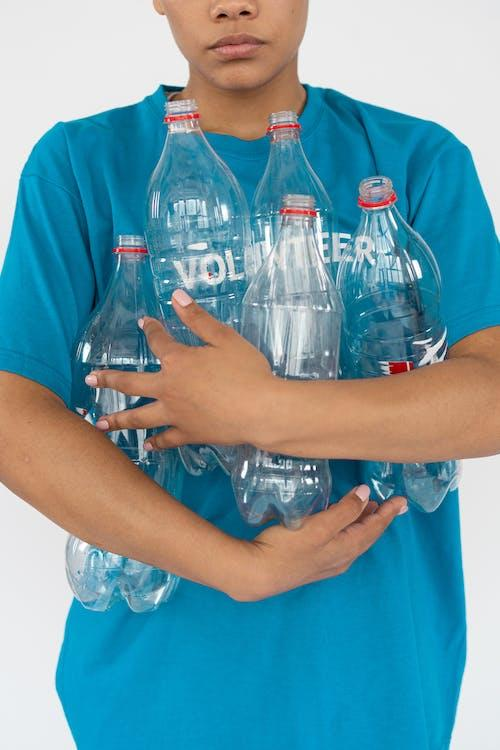Plastic: (67, 230, 186, 505), (137, 94, 262, 350), (334, 175, 449, 380), (61, 534, 179, 616), (227, 447, 329, 532)
